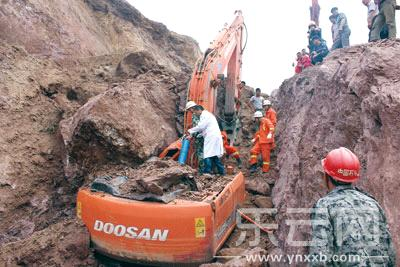excavator: (72, 9, 262, 259)
